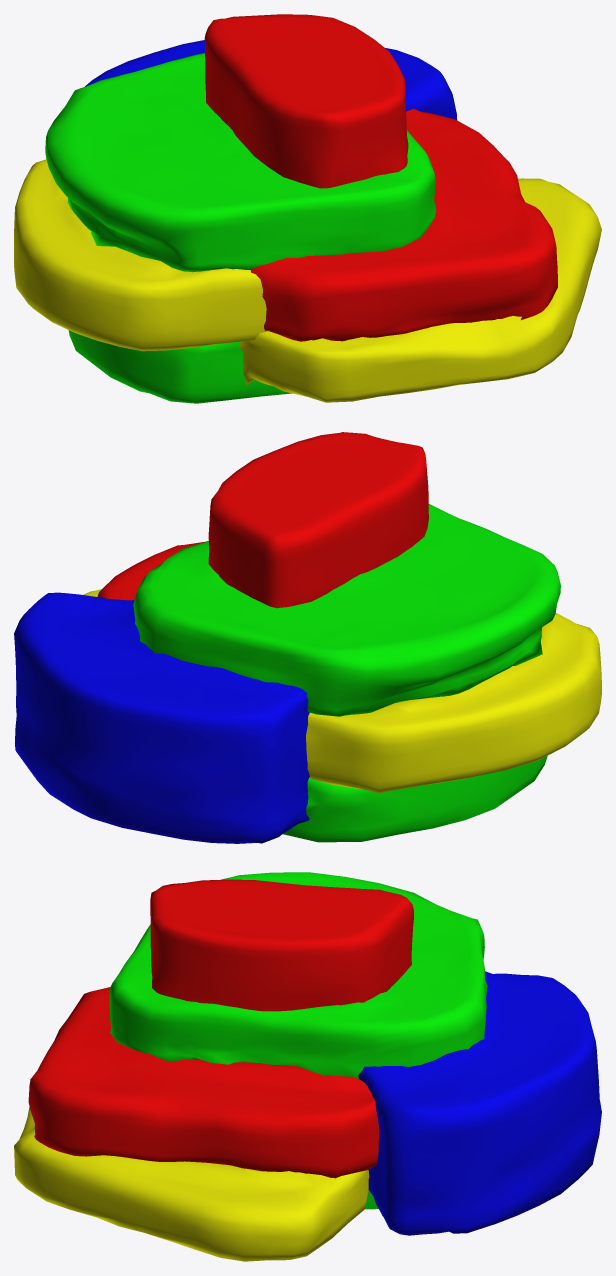
File: Rock2.fbx
The picture shows the model from 3 angles, top to bottom: view 1: azimuth 30°, elevation 25°; view 2: azimuth 150°, elevation 25°; view 3: azimuth 270°, elevation 25°; orthographic projection. The views are drawn at different scales.
Parts seen in each view (by area): view 1: Rocher2_low:Rocher2_low:Group6; view 2: Rocher2_low:Rocher2_low:Group6; view 3: Rocher2_low:Rocher2_low:Group6.
Part boxes in pixels (bbox=[...]): Rocher2_low:Rocher2_low:Group6: bbox=[14, 14, 601, 403]; Rocher2_low:Rocher2_low:Group6: bbox=[14, 432, 601, 843]; Rocher2_low:Rocher2_low:Group6: bbox=[14, 872, 601, 1261].
Size of the model in its own units: 1270 by 596 by 1253.
